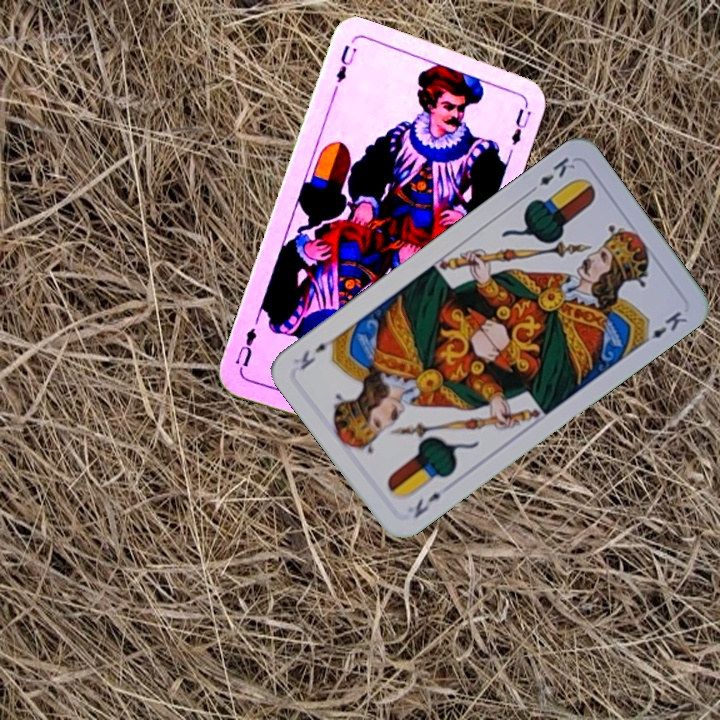EK: (524, 153, 578, 197), (409, 488, 444, 521)
EU: (332, 41, 360, 86)
